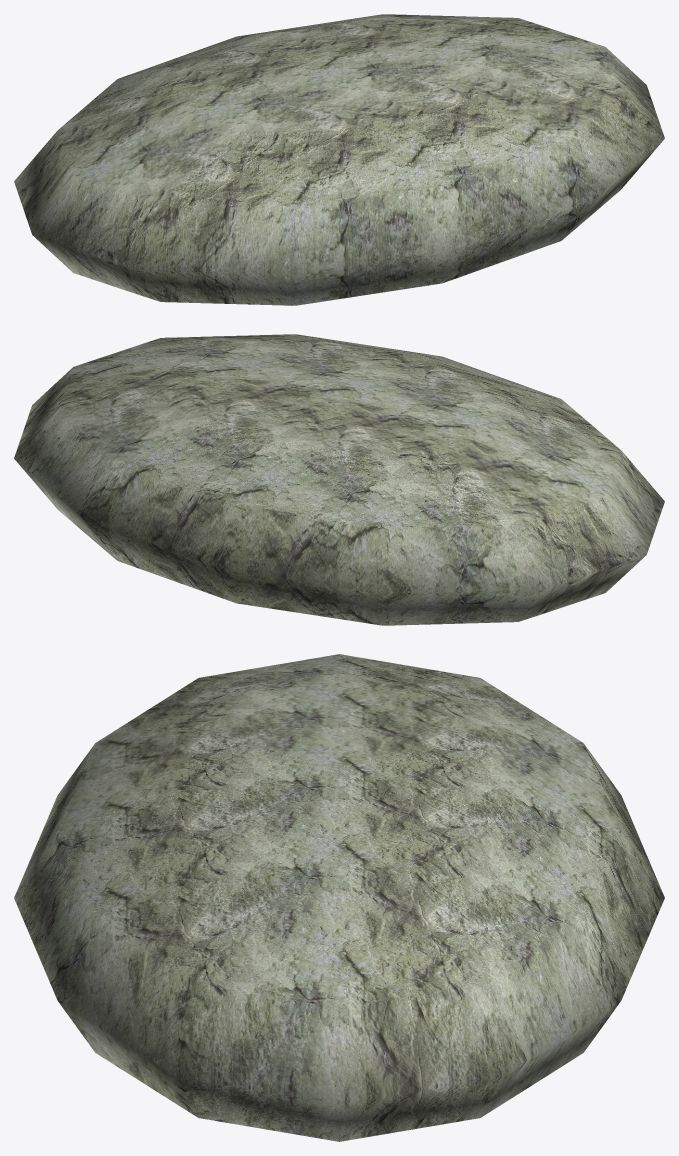
File: rock.fbx
3 views of the same model, one above another, from view 1: azimuth 30°, elevation 25°; view 2: azimuth 150°, elevation 25°; view 3: azimuth 270°, elevation 25° (orthographic). The views are drawn at different scales.
Parts seen in each view (by area): view 1: Sphere08; view 2: Sphere08; view 3: Sphere08.
Boxes of the visible parts, left/top/right/bottom form: Sphere08: left=14, top=14, right=664, bottom=305; Sphere08: left=14, top=334, right=664, bottom=625; Sphere08: left=14, top=654, right=664, bottom=1141.
Size of the model in its own units: 28.8 by 8.63 by 19.28.
1 material, 1 textured.
